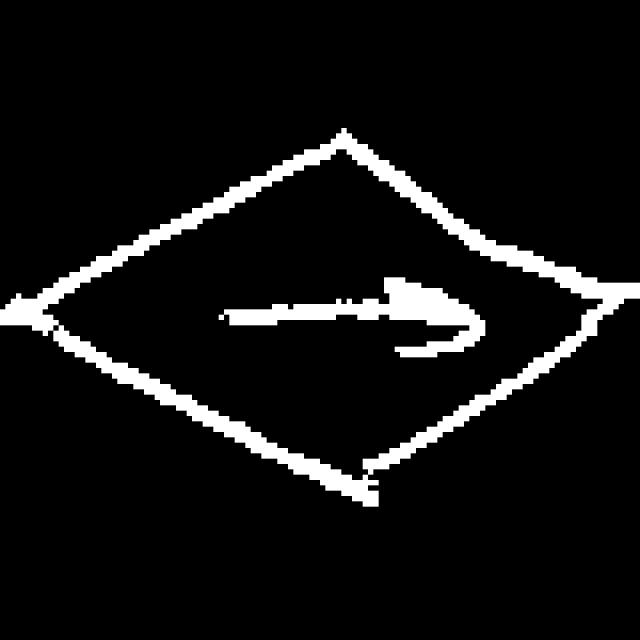dependant_current: (28, 61, 622, 524)
